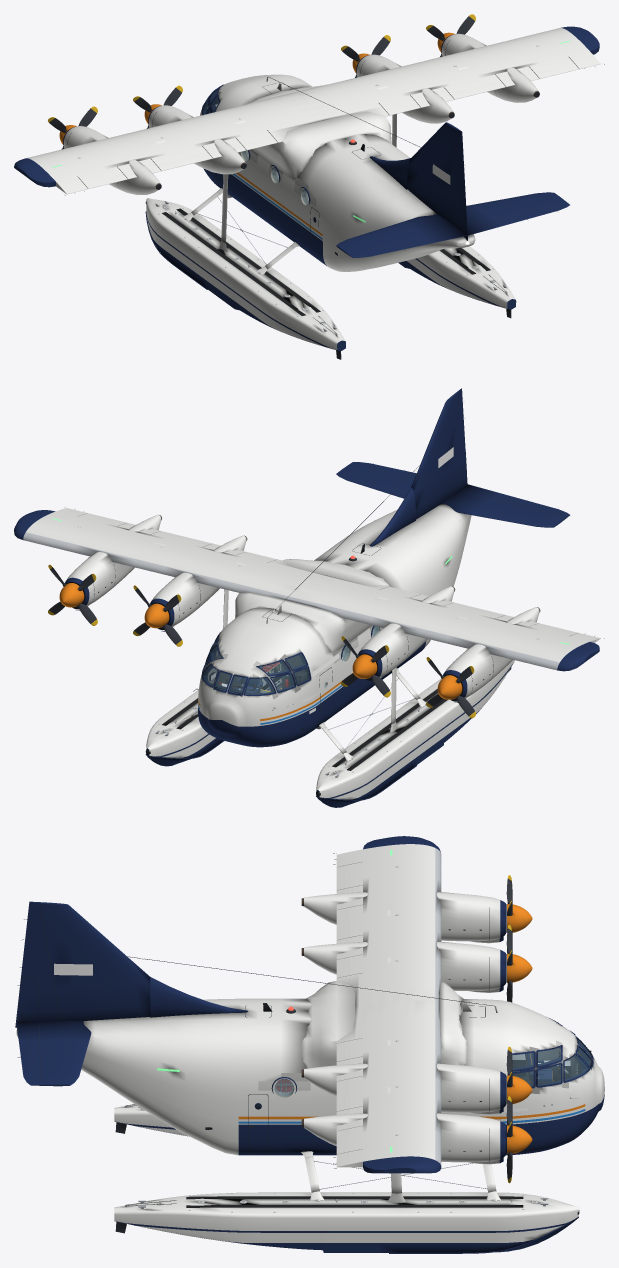
The model's file is floatplane_c130.glb.
The picture shows the model from 3 angles, top to bottom: view 1: azimuth 30°, elevation 25°; view 2: azimuth 150°, elevation 25°; view 3: azimuth 270°, elevation 25°; orthographic projection. The views are drawn at different scales.
Visible parts, largest first — view 1: Body, Floats, Flap_R2, Flap_L2, Flap_L3, Flap_R3, Flap_R1, Flap_L1; view 2: Body, Floats, Glass, Interior, Cockpit; view 3: Body, Floats, Glass, Cockpit, Flap_R2, Flap_L2, Flap_L3, Flap_R3.
Boxes of the visible parts, box(x1,y1,x2,y2) form: Body: box(14, 26, 604, 271); Floats: box(145, 114, 516, 359); Flap_R2: box(444, 74, 505, 99); Flap_L2: box(151, 146, 212, 170); Flap_L3: box(77, 167, 127, 188); Flap_R3: box(529, 56, 578, 78); Flap_R1: box(379, 95, 420, 115); Flap_L1: box(236, 130, 277, 150); Body: box(14, 388, 604, 747); Floats: box(145, 589, 514, 807); Glass: box(203, 626, 379, 694); Interior: box(217, 627, 376, 693); Cockpit: box(204, 651, 306, 693); Body: box(15, 836, 604, 1173); Floats: box(114, 1104, 579, 1253); Glass: box(275, 1041, 590, 1096); Cockpit: box(512, 1050, 581, 1084); Flap_R2: box(336, 1076, 362, 1111); Flap_L2: box(336, 905, 362, 940); Flap_L3: box(336, 862, 362, 890); Flap_R3: box(336, 1126, 362, 1154).
Bounding box in the file's own units: 24 × 10.15 × 18.07.
